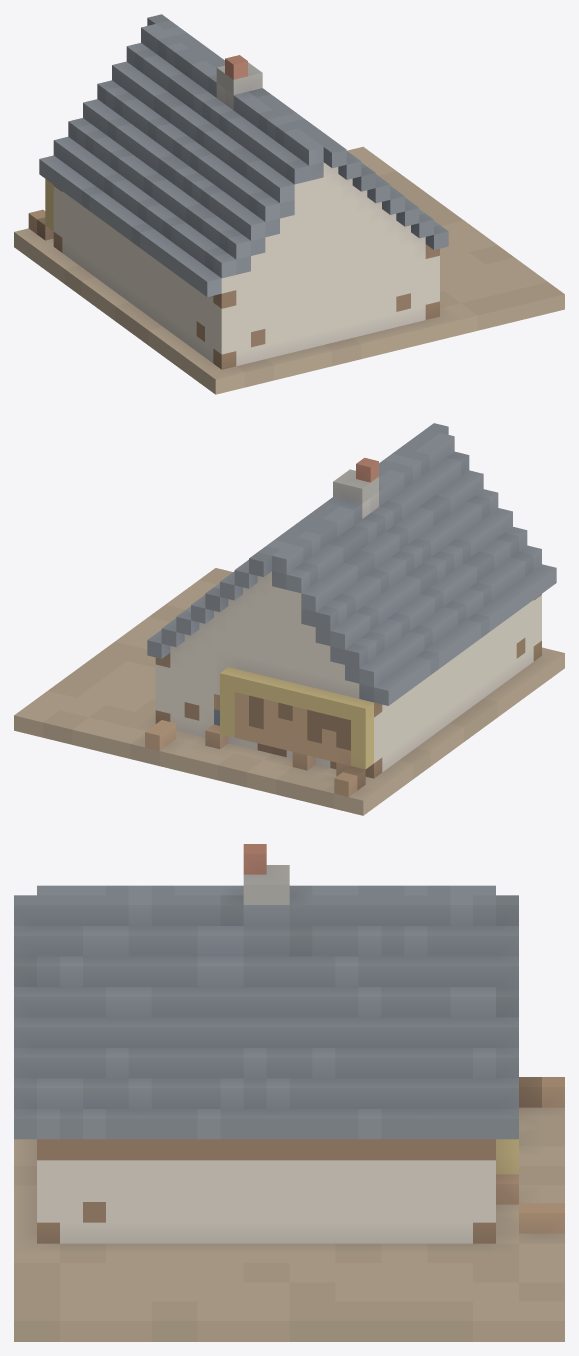
The model's file is oyster_house.lite.glb.
The picture shows the model from 3 angles, top to bottom: view 1: azimuth 30°, elevation 25°; view 2: azimuth 150°, elevation 25°; view 3: azimuth 270°, elevation 25°; orthographic projection. The views are drawn at different scales.
Parts seen in each view (by area): view 1: oyster_house; view 2: oyster_house; view 3: oyster_house.
Boxes of the visible parts, bbox=[...] form: oyster_house: bbox=[14, 14, 564, 394]; oyster_house: bbox=[14, 423, 564, 815]; oyster_house: bbox=[14, 844, 564, 1341].
Size of the model in its own units: 6 by 4 by 6.
